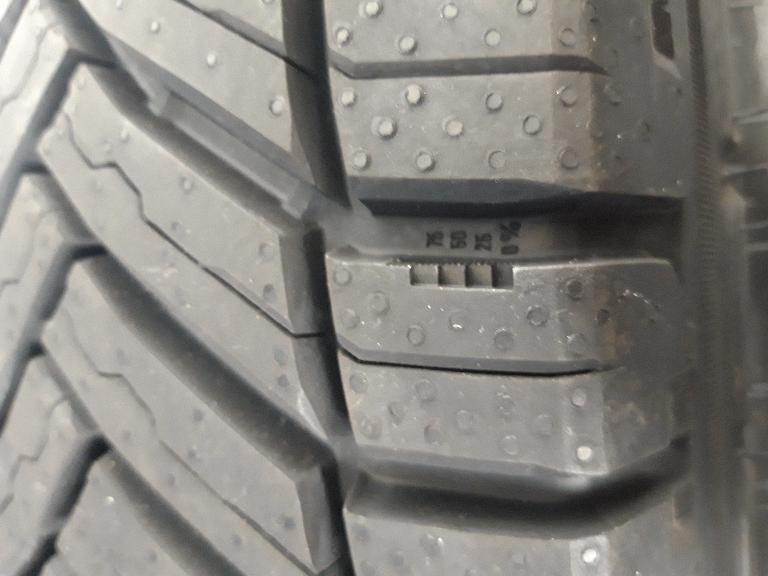temoin:100: (384, 254, 517, 294)
